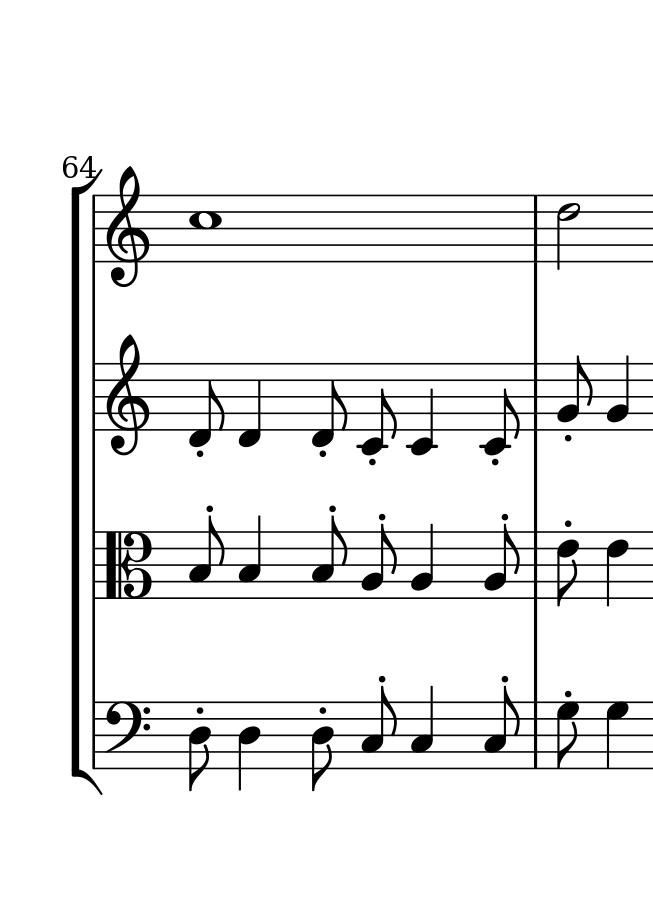1_5: (186, 194, 223, 263)
2_6: (555, 192, 582, 269)
4: (80, 153, 97, 177)
4_-1: (236, 362, 265, 448)
4_-2: (408, 362, 438, 459)
4_2: (408, 523, 439, 600), (606, 353, 634, 431)
4_3: (409, 683, 438, 771), (237, 513, 265, 599)
4_4: (235, 699, 264, 793)
4_6: (604, 529, 629, 605)
4_7: (603, 700, 631, 771)
6: (63, 152, 79, 181)
8_-1: (308, 361, 351, 449), (187, 362, 227, 450)
8_-2: (479, 359, 522, 456), (357, 361, 400, 457)
8_2: (556, 353, 596, 431), (482, 525, 521, 601), (361, 521, 398, 601)
8_3: (360, 685, 398, 771), (482, 687, 520, 769), (188, 516, 225, 600), (311, 517, 347, 600)
8_4: (309, 699, 338, 794), (185, 699, 213, 796)
8_6: (551, 531, 583, 608)
8_7: (553, 699, 582, 772)
Bracke: (69, 169, 102, 793)
Cclef: (103, 529, 156, 601)
Fclef: (100, 696, 151, 756)
Gclef: (104, 333, 152, 457), (105, 165, 152, 290)
Single_barline: (526, 363, 544, 432), (526, 530, 544, 598), (85, 530, 102, 599), (527, 196, 545, 261), (527, 701, 544, 769), (86, 362, 102, 432), (87, 195, 102, 262), (87, 702, 102, 769)
